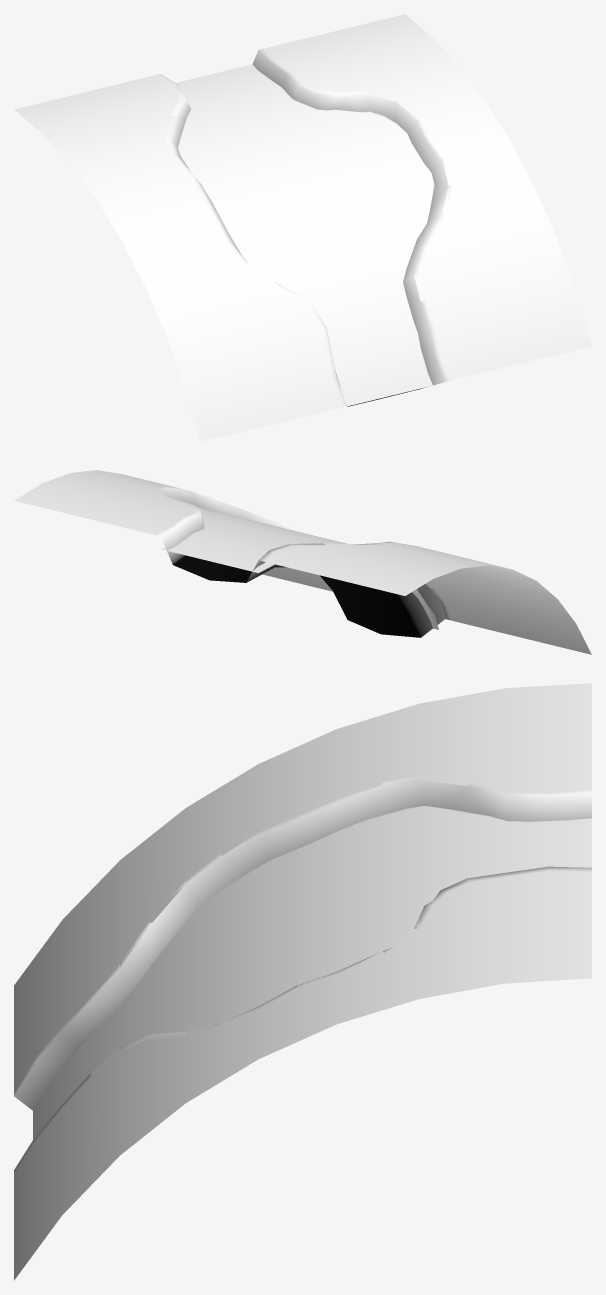
File: grd_Rn_P_0.dae
3 renders of one model, top to bottom at view 1: azimuth 30°, elevation 25°; view 2: azimuth 150°, elevation 25°; view 3: azimuth 270°, elevation 25°, orthographic. The views are drawn at different scales.
Parts seen in each view (by area): view 1: grass_2_0, river_3_0, cliff_river_0_0, cliff_river1_1_0; view 2: grass_2_0, cliff_river_0_0, river_3_0, cliff_river1_1_0; view 3: grass_2_0, river_3_0, cliff_river_0_0, cliff_river1_1_0.
Boxes of the visible parts, x1,y1,x2,y2 form: grass_2_0: [14, 14, 591, 441]; river_3_0: [176, 65, 433, 405]; cliff_river_0_0: [155, 48, 453, 407]; cliff_river1_1_0: [178, 64, 438, 407]; grass_2_0: [14, 470, 591, 654]; cliff_river_0_0: [154, 487, 450, 637]; river_3_0: [162, 508, 438, 629]; cliff_river1_1_0: [161, 507, 438, 628]; grass_2_0: [14, 683, 591, 1280]; river_3_0: [33, 806, 591, 1139]; cliff_river_0_0: [14, 775, 591, 1173]; cliff_river1_1_0: [33, 806, 591, 1114].
Bounding box in the file's own units: 512 × 264 × 423.
4 materials, 1 textured.
